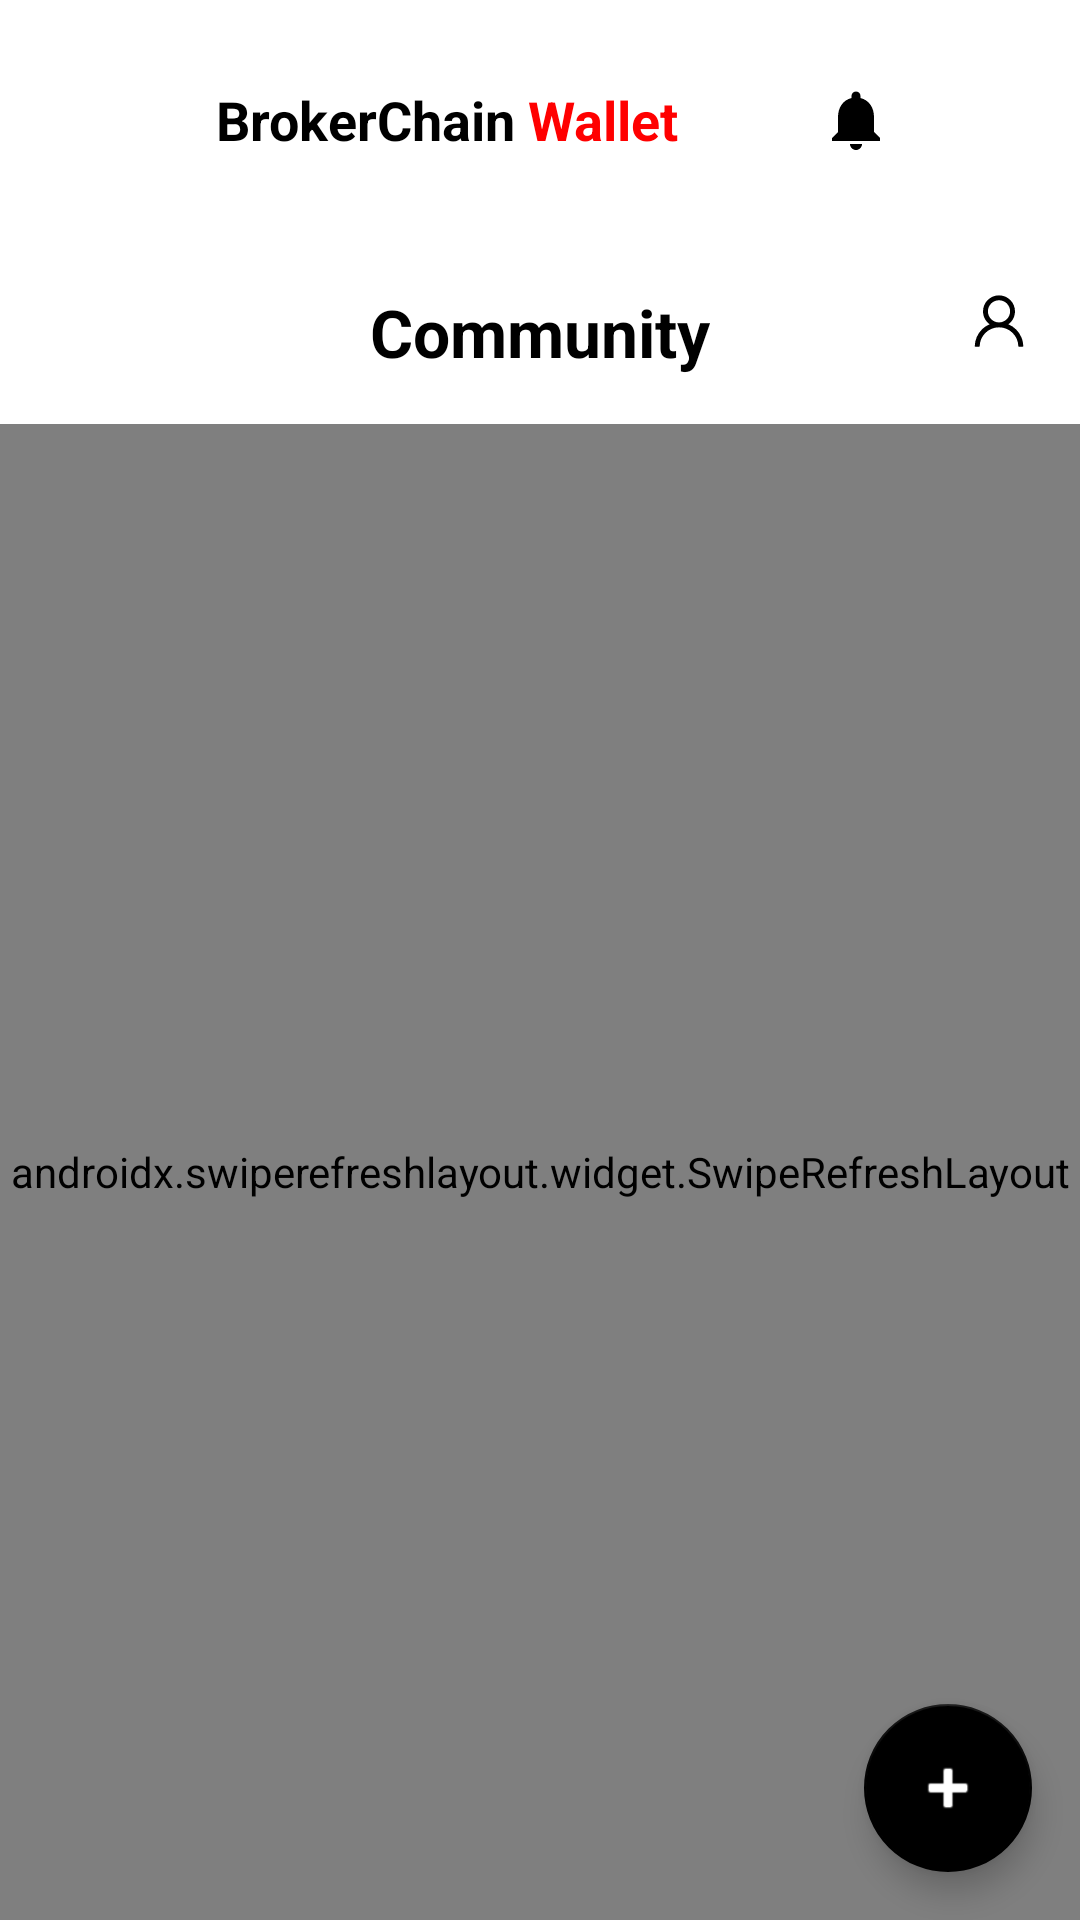

Icon bounding boxes for this 1080*1920 phone screenshot, format region(x1, y1, x2, y2):
Notifications: region(832, 91, 880, 150)
Post: region(864, 1704, 1032, 1872)
user: region(974, 295, 1024, 347)
